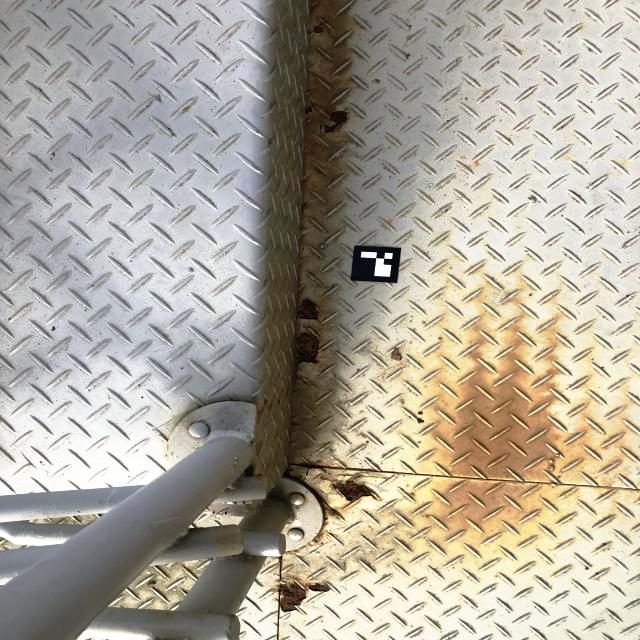Corrosion: (333, 481, 374, 503), (296, 332, 320, 365), (279, 584, 306, 613), (321, 110, 349, 133), (298, 299, 320, 320), (317, 498, 337, 521), (317, 467, 341, 485), (294, 459, 335, 468), (306, 582, 332, 593), (312, 24, 324, 33), (312, 533, 324, 542), (346, 476, 362, 482), (305, 103, 313, 113), (279, 557, 281, 564)
